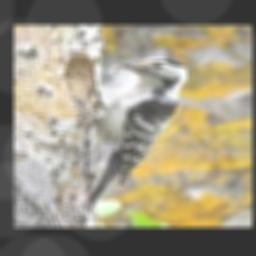Woodpecker: (88, 58, 188, 207)
